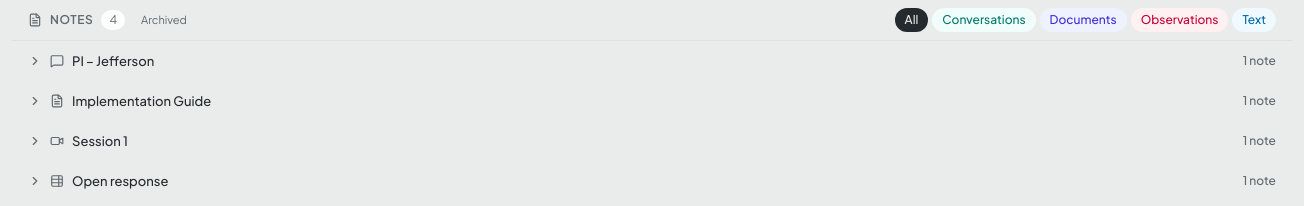
Test: offers a Documents source filter that isolates document notes
The width and height of the screenshot is (1304, 206).
Expected: the button "Implementation Guide 1 note" is shown, 12,81 -> 1292,121
Click the button "Documents". click: (1083, 20)
box: 1040,8 -> 1127,32
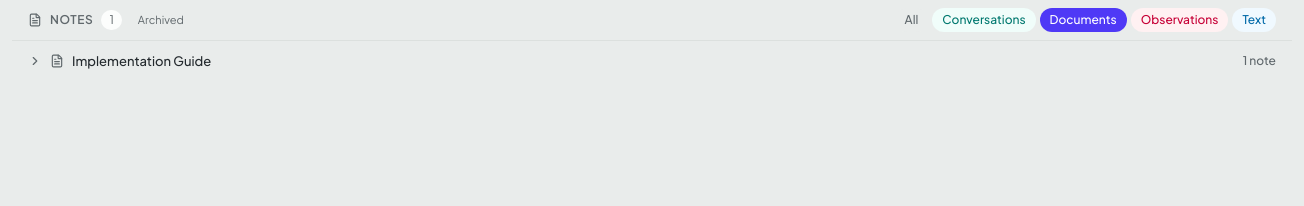
Expected: the button "Implementation Guide 1 note" is shown, 12,41 -> 1292,81
Expected: the button "PI – Jefferson" is gone
# Conversations filter hides the document group again.
Click the button "Conversations". click: (984, 20)
box: 932,8 -> 1036,32
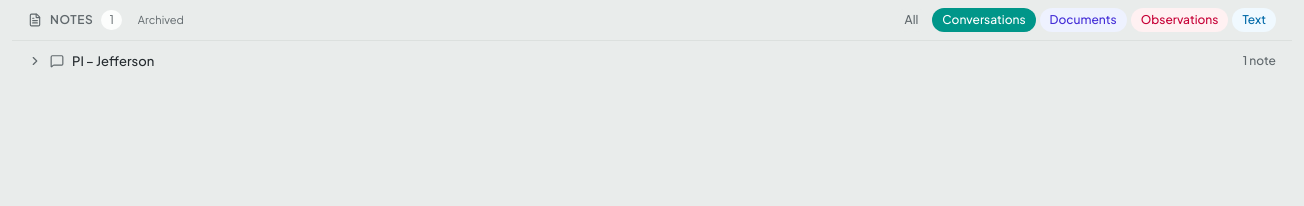
Expected: the button "Implementation Guide" is gone
Expected: the button "PI – Jefferson 1 note" is shown, 12,41 -> 1292,81
